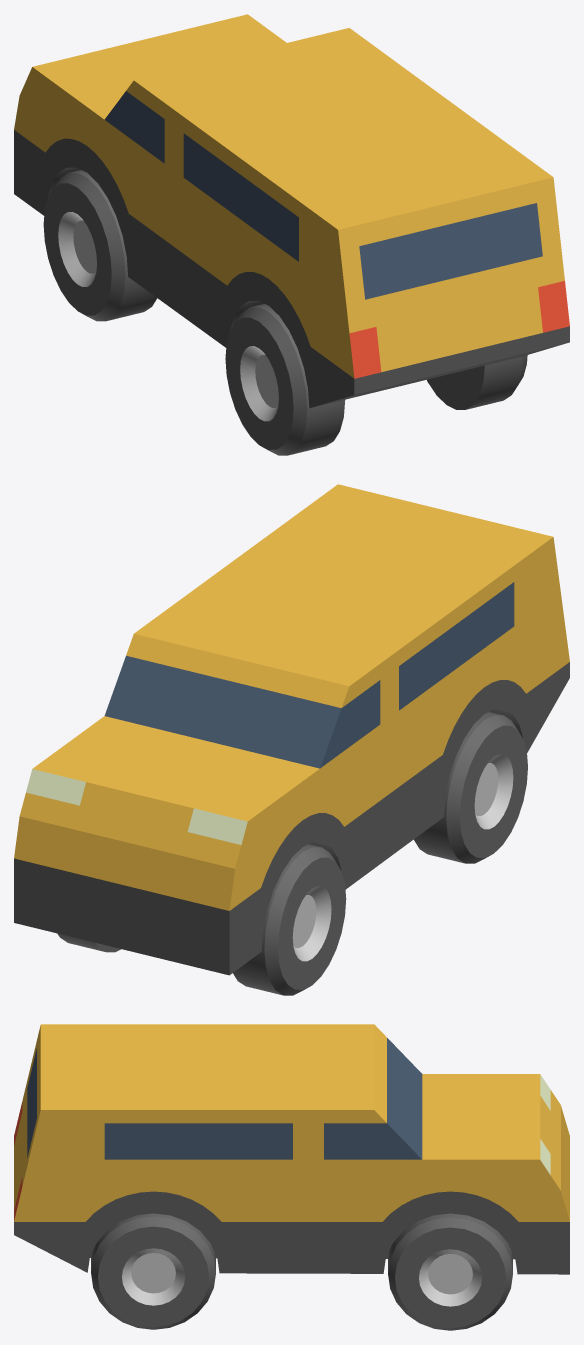
File: carStation.fbx
The picture shows the model from 3 angles, top to bottom: view 1: azimuth 30°, elevation 25°; view 2: azimuth 150°, elevation 25°; view 3: azimuth 270°, elevation 25°; orthographic projection. The views are drawn at different scales.
Parts seen in each view (by area): view 1: body 8, wheelBackLeft 8, wheelFrontLeft 8, wheelBackRight 8; view 2: body 8, wheelBackLeft 8, wheelFrontLeft 8; view 3: body 8, wheelFrontRight 8, wheelBackRight 8.
Part boxes in pixels (x1,y1,x2,y2): body 8: [14, 14, 569, 408]; wheelBackLeft 8: [225, 304, 345, 455]; wheelFrontLeft 8: [43, 170, 157, 321]; wheelBackRight 8: [427, 355, 527, 409]; body 8: [14, 484, 569, 975]; wheelBackLeft 8: [414, 712, 527, 863]; wheelFrontLeft 8: [233, 844, 346, 995]; body 8: [14, 1024, 569, 1274]; wheelFrontRight 8: [388, 1213, 512, 1330]; wheelBackRight 8: [91, 1213, 215, 1329].
Size of the model in its own units: 4.95 by 5.48 by 12.45.
